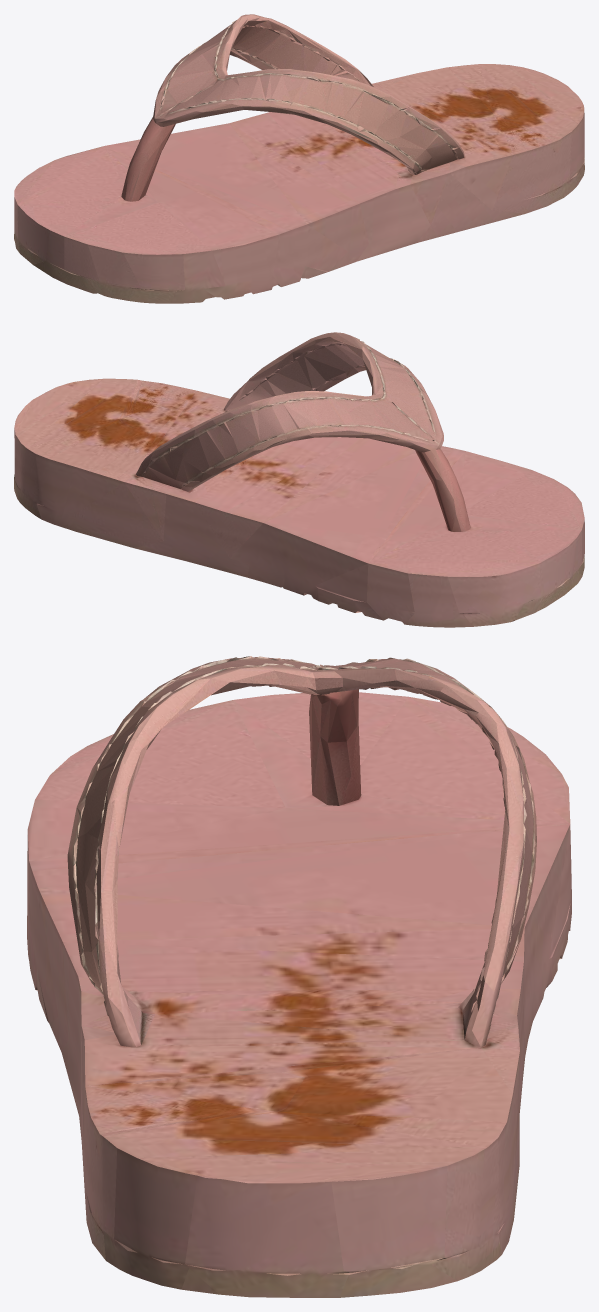
Rendered from ciabatta.glb.
3 views of the same model, one above another, from view 1: azimuth 30°, elevation 25°; view 2: azimuth 150°, elevation 25°; view 3: azimuth 270°, elevation 25° (orthographic). The views are drawn at different scales.
Parts seen in each view (by area): view 1: Mesh_0; view 2: Mesh_0; view 3: Mesh_0.
Boxes of the visible parts, x1,y1,x2,y2 form: Mesh_0: [14, 14, 584, 303]; Mesh_0: [14, 332, 584, 627]; Mesh_0: [27, 656, 571, 1297].
Size of the model in its own units: 0.2 by 0.0632 by 0.0896.
1 material, 1 textured.
